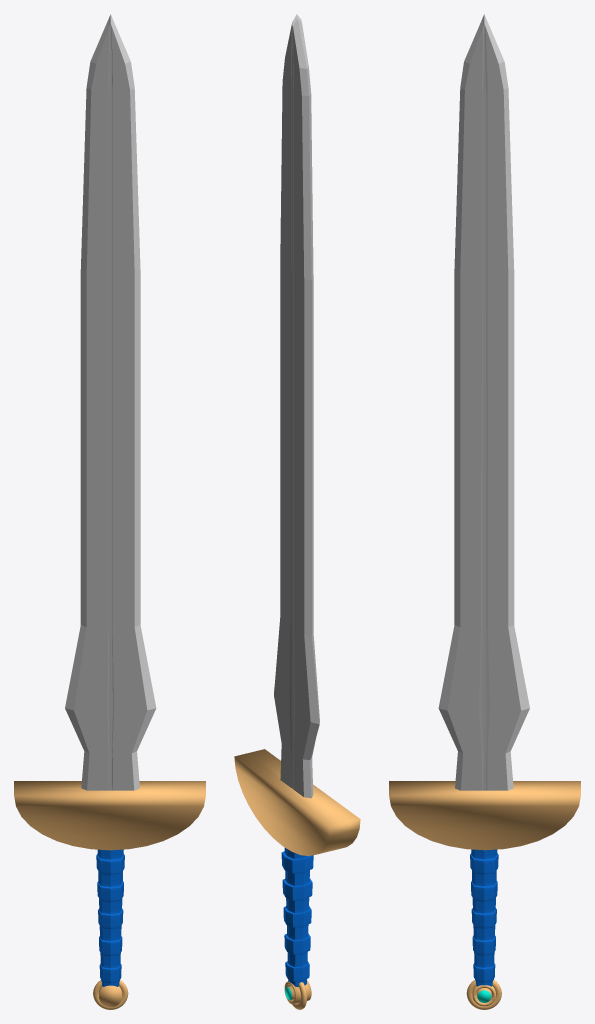
Rendered from NewSword.glb.
3 views of the same model, side by side, from view 1: azimuth 90°, elevation 25°; view 2: azimuth 210°, elevation 25°; view 3: azimuth 270°, elevation 25° (orthographic).
Parts seen in each view (by area): view 1: NewSwordGuard; view 2: NewSwordGuard; view 3: NewSwordGuard.
Boxes of the visible parts, bbox=[...] form: NewSwordGuard: bbox=[14, 14, 205, 1009]; NewSwordGuard: bbox=[234, 14, 360, 1009]; NewSwordGuard: bbox=[389, 14, 580, 1009].
Bounding box in the file's own units: 354 × 11063 × 1931.
